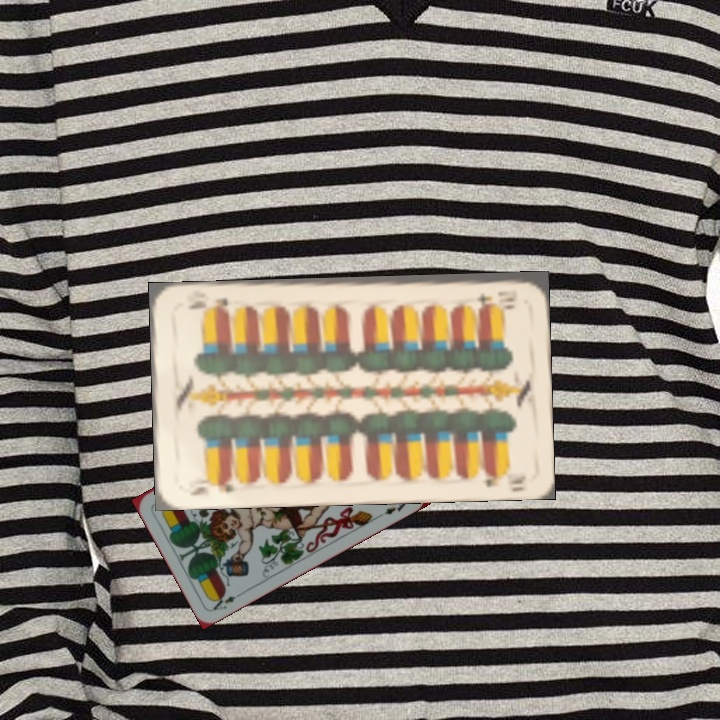E10: (185, 473, 237, 498), (472, 286, 520, 307)
EA: (208, 587, 246, 613)
